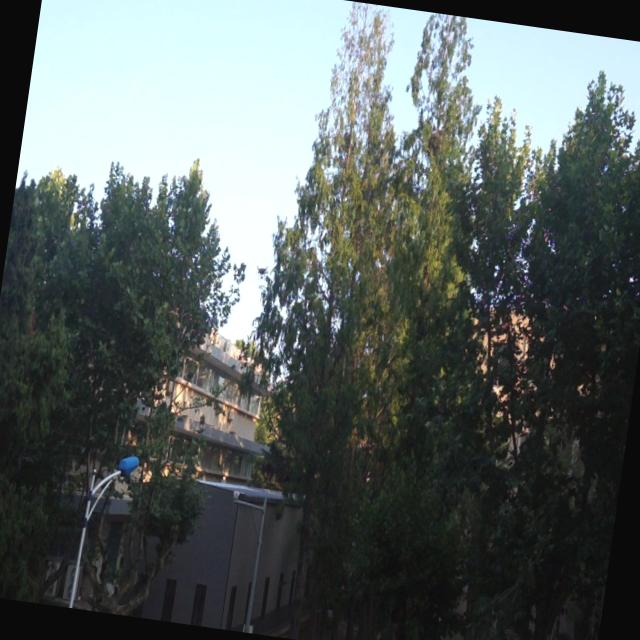drone: (253, 260, 270, 284)
